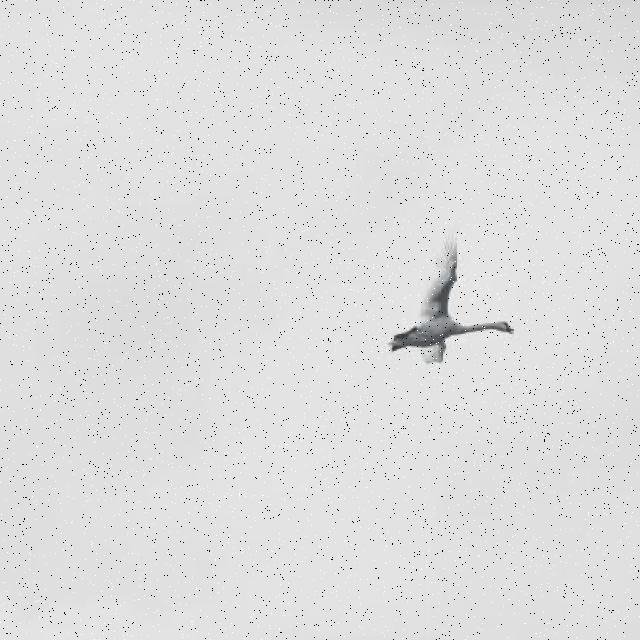bird: (390, 229, 515, 365)
